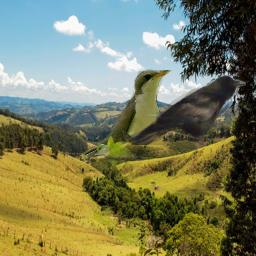Crow: (132, 74, 246, 145)
Cuckoo: (84, 67, 172, 171)
